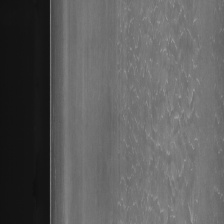silk_spot: (116, 8, 202, 224)
